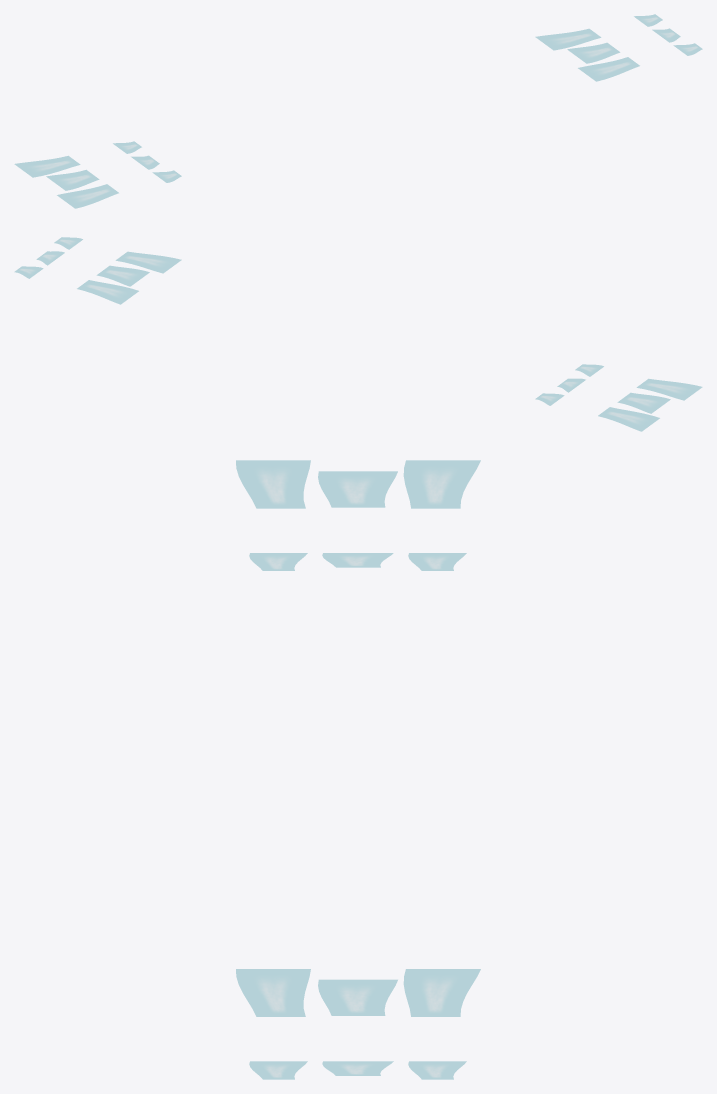
The model's file is duckov_bridge_wakes.obj.
The picture shows the model from 3 angles, top to bottom: view 1: azimuth 30°, elevation 25°; view 2: azimuth 150°, elevation 25°; view 3: azimuth 270°, elevation 25°; orthographic projection. The views are drawn at different scales.
Parts seen in each view (by area): view 1: DuckovBridgeWakes; view 2: DuckovBridgeWakes; view 3: DuckovBridgeWakes.
Part boxes in pixels (x1,y1,x2,y2): DuckovBridgeWakes: (14,14,702,208); DuckovBridgeWakes: (14,237,702,431); DuckovBridgeWakes: (236,460,480,1079).
Size of the model in its own units: 34.1 by 0 by 5.71.
1 material, 1 textured.
